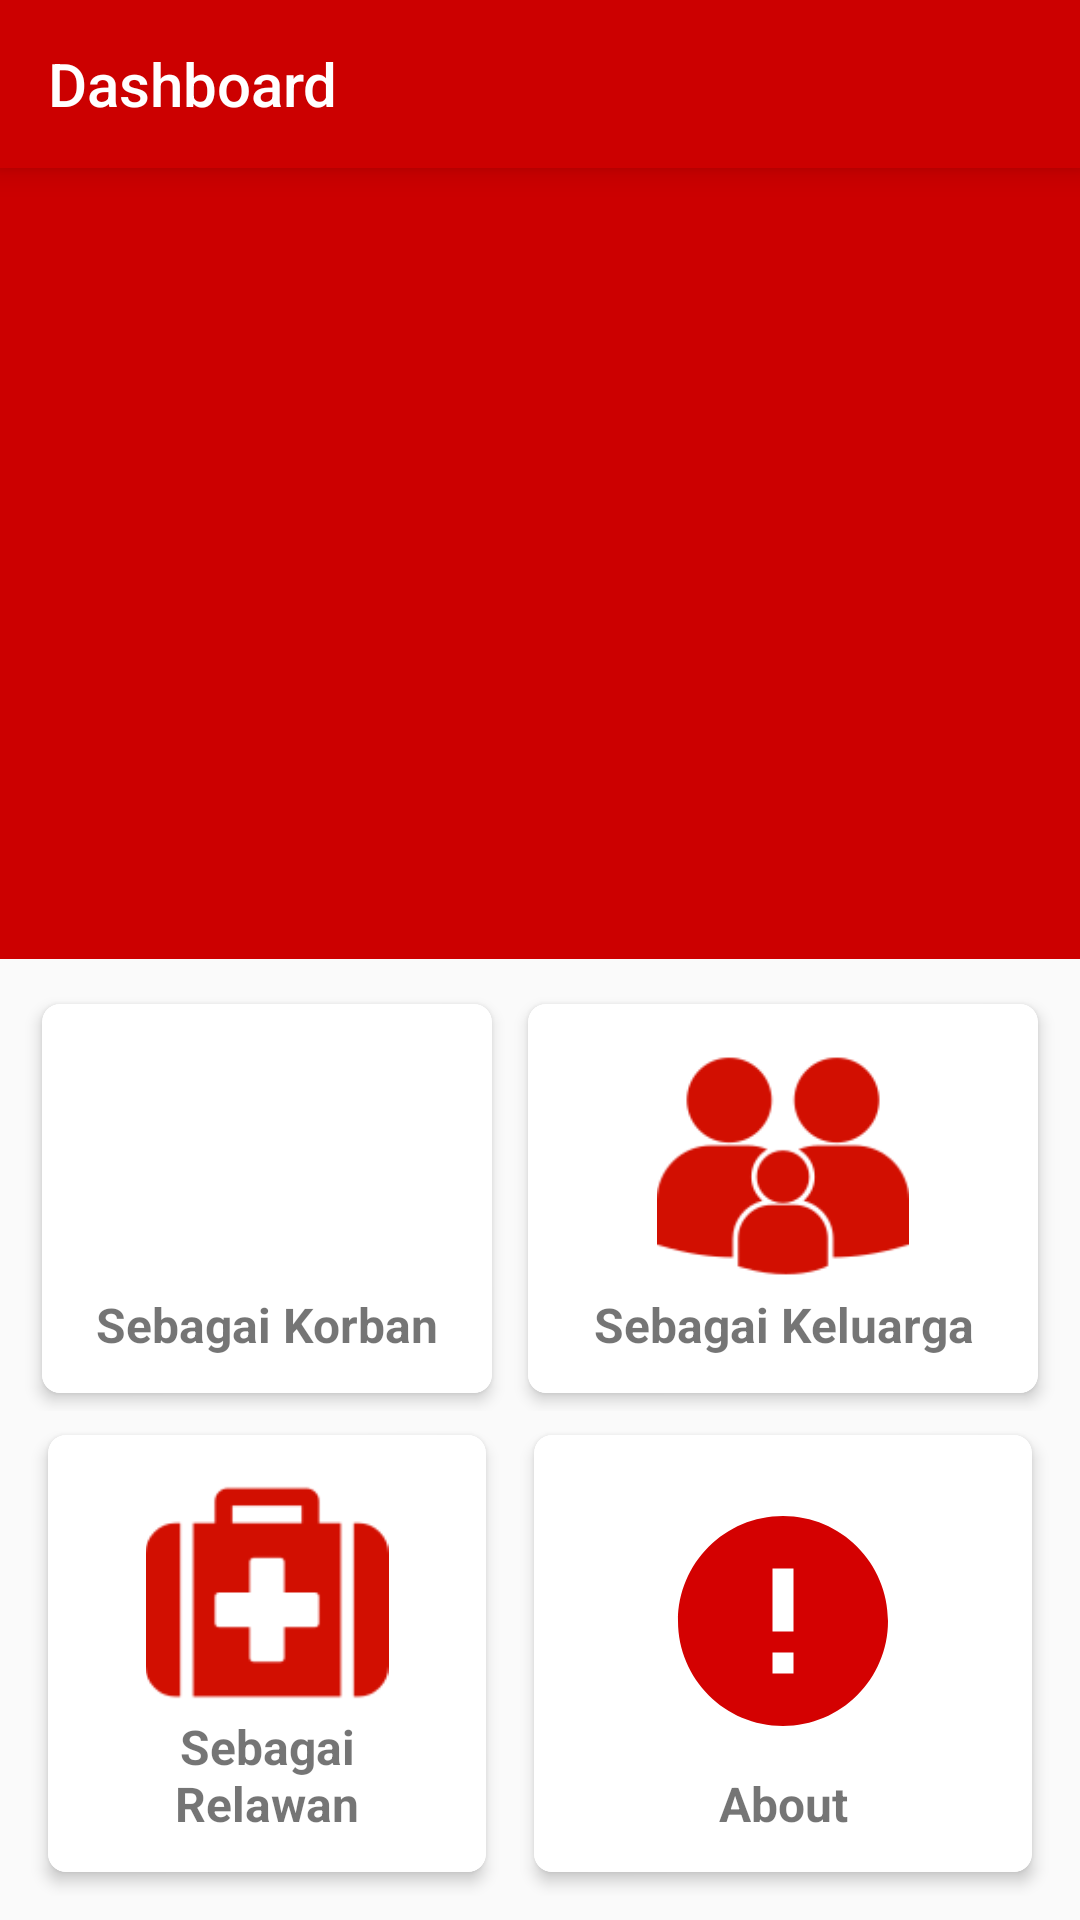

Locate icon controls on the screen. Image size 1080 × 1920, boxes as (x1, y1, x2, y2).
medical kit: (146, 1487, 389, 1698)
